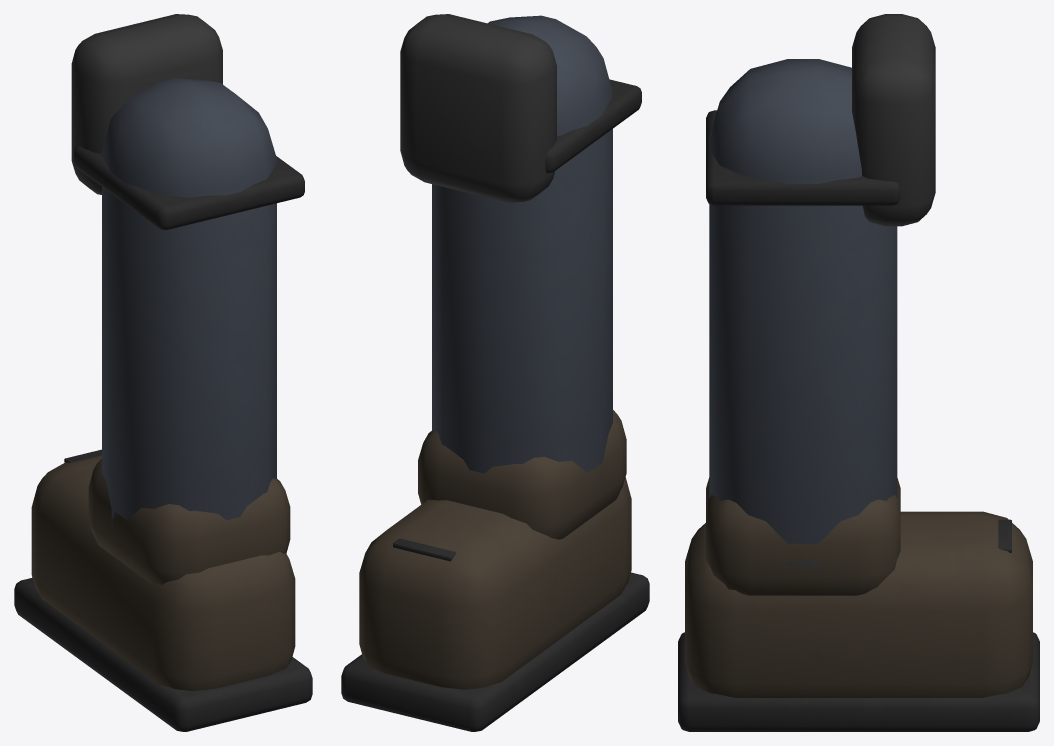
Rendered from SM_OperatorBShin.fbx.
The picture shows the model from 3 angles, left to right: view 1: azimuth 30°, elevation 25°; view 2: azimuth 150°, elevation 25°; view 3: azimuth 270°, elevation 25°; orthographic projection. The views are drawn at different scales.
Visible parts, largest first — view 1: SM_OperatorBShin; view 2: SM_OperatorBShin; view 3: SM_OperatorBShin.
Part boxes in pixels (x1,y1,x2,y2): SM_OperatorBShin: (14, 14, 312, 731); SM_OperatorBShin: (341, 14, 649, 731); SM_OperatorBShin: (678, 14, 1039, 731).
Bounding box in the file's own units: 0.13 × 0.525 × 0.26.
Materials: 1 (1 with a texture image).
